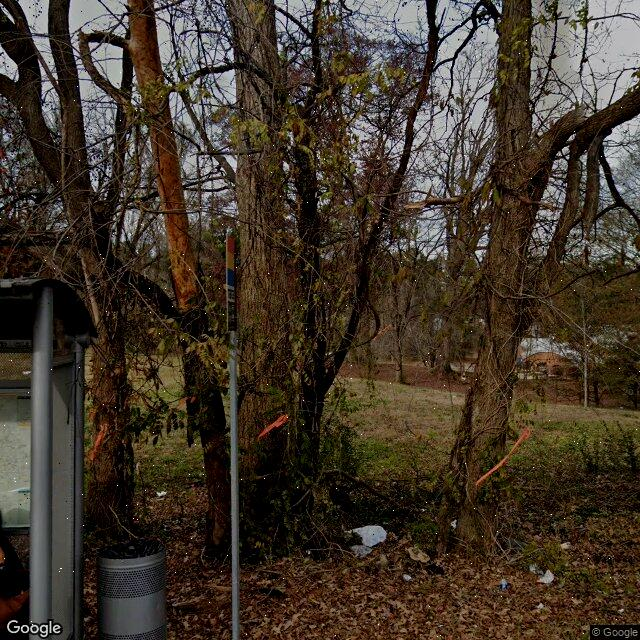shelter: (0, 274, 84, 640)
trash_can: (97, 538, 168, 640)
